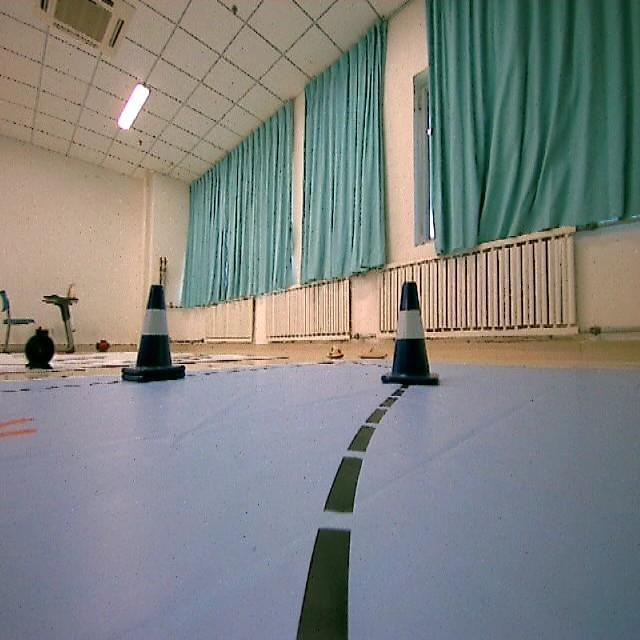obstacle: (380, 276, 443, 390), (120, 283, 186, 389)
